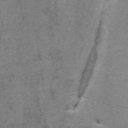finishing roll printing: (72, 0, 106, 110)
